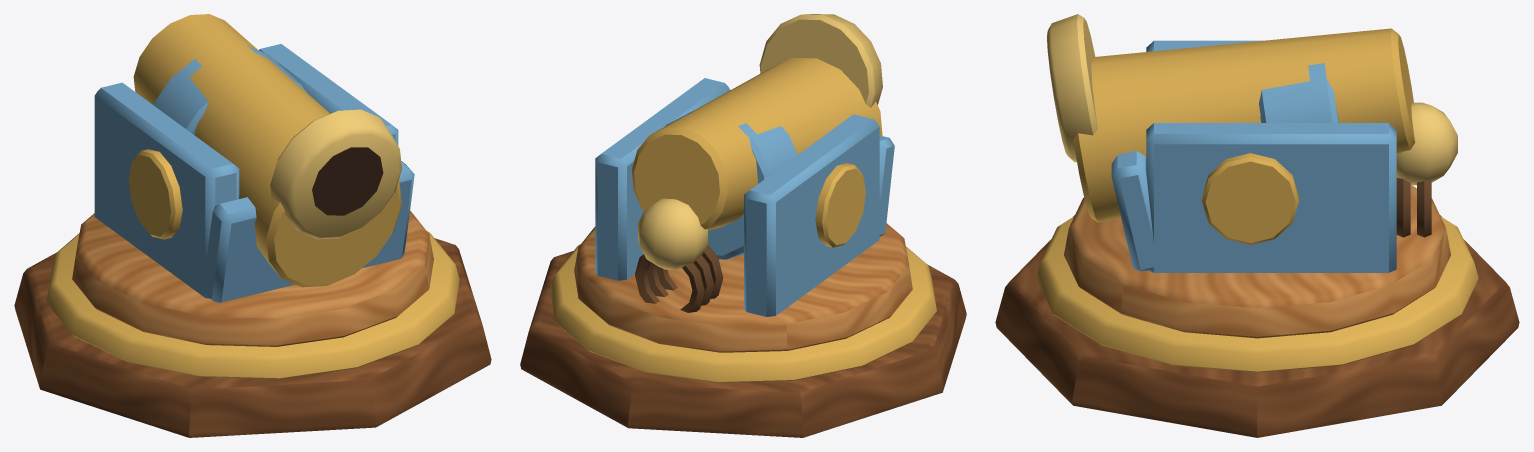
Rendered from tourelle_canon.glb.
3 views of the same model, side by side, from view 1: azimuth 30°, elevation 25°; view 2: azimuth 150°, elevation 25°; view 3: azimuth 270°, elevation 25° (orthographic). The views are drawn at different scales.
Visible parts, largest first — view 1: tourelle_canon; view 2: tourelle_canon; view 3: tourelle_canon.
Part boxes in pixels (<box>): tourelle_canon: <box>14,14,491,437</box>; tourelle_canon: <box>520,14,966,437</box>; tourelle_canon: <box>995,14,1519,437</box>.
Bounding box in the file's own units: 1.51 × 0.9807 × 1.51.
7 materials, 2 textured.
